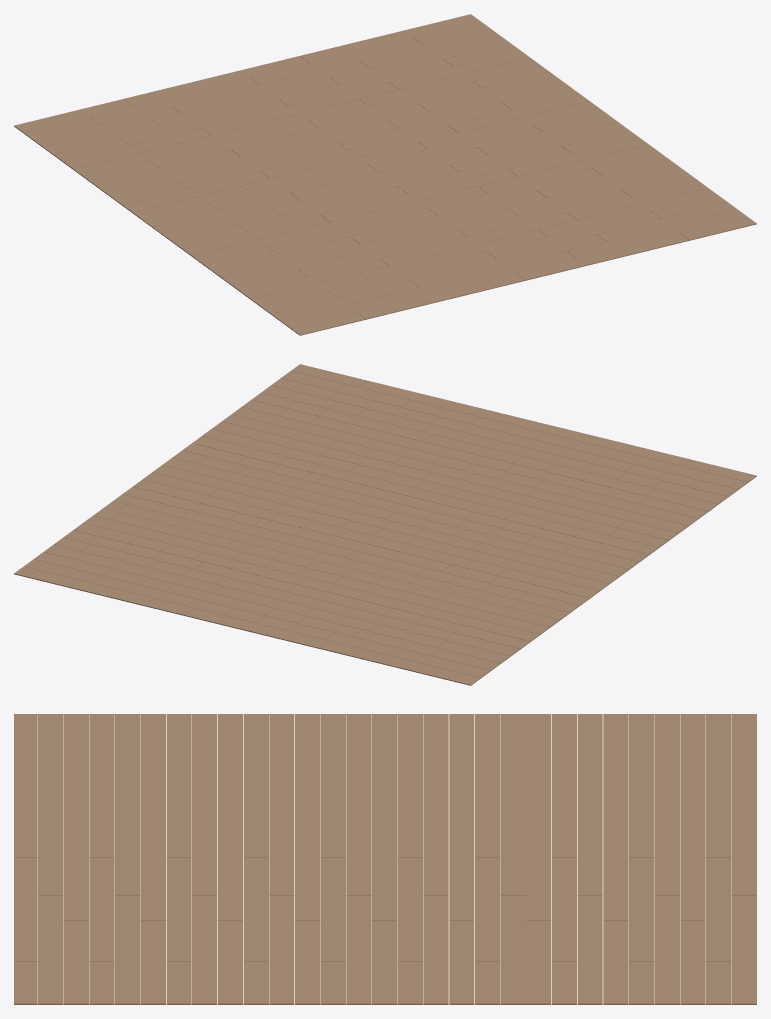
File: Office2_parquet1.fbx
The picture shows the model from 3 angles, top to bottom: view 1: azimuth 30°, elevation 25°; view 2: azimuth 150°, elevation 25°; view 3: azimuth 270°, elevation 25°; orthographic projection. The views are drawn at different scales.
Visible parts, largest first — view 1: Office2_parquet1; view 2: Office2_parquet1; view 3: Office2_parquet1.
Boxes of the visible parts, x1=… form: Office2_parquet1: x1=14, y1=14, x2=756, y2=335; Office2_parquet1: x1=14, y1=364, x2=756, y2=685; Office2_parquet1: x1=14, y1=714, x2=756, y2=1004.
Bounding box in the file's own units: 448 × 486 × 0.8159.
